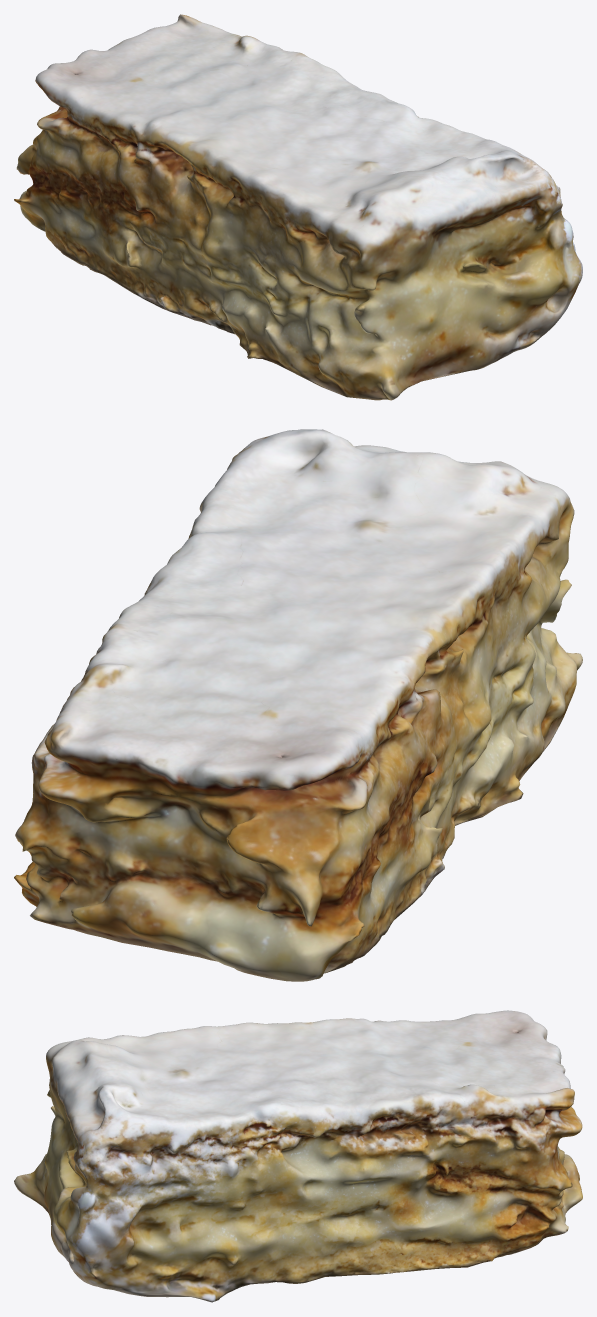
Rendered from plato2.glb.
The picture shows the model from 3 angles, top to bottom: view 1: azimuth 30°, elevation 25°; view 2: azimuth 150°, elevation 25°; view 3: azimuth 270°, elevation 25°; orthographic projection. The views are drawn at different scales.
Parts seen in each view (by area): view 1: 3DModel; view 2: 3DModel; view 3: 3DModel.
Boxes of the visible parts, x1,y1,x2,y2 form: 3DModel: [14, 14, 582, 400]; 3DModel: [14, 429, 582, 981]; 3DModel: [14, 1010, 582, 1302].
Size of the model in its own units: 0.19 by 0.1093 by 0.2983.
1 material, 1 textured.
